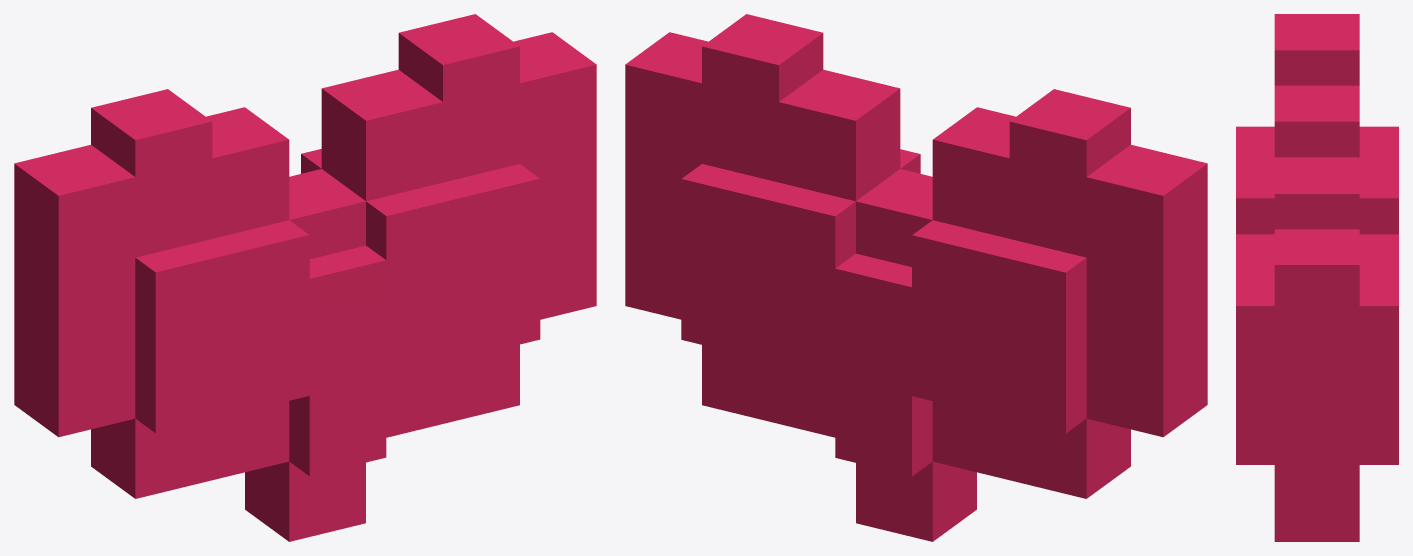
File: heart.fbx
3 views of the same model, side by side, from view 1: azimuth 30°, elevation 25°; view 2: azimuth 150°, elevation 25°; view 3: azimuth 270°, elevation 25° (orthographic). The views are drawn at different scales.
Visible parts, largest first — view 1: Cube; view 2: Cube; view 3: Cube.
Boxes of the visible parts, x1,y1,x2,y2 form: Cube: (14,14,596,541); Cube: (625,14,1207,541); Cube: (1236,14,1398,541).
Bounding box in the file's own units: 1400 × 1092 × 384.
